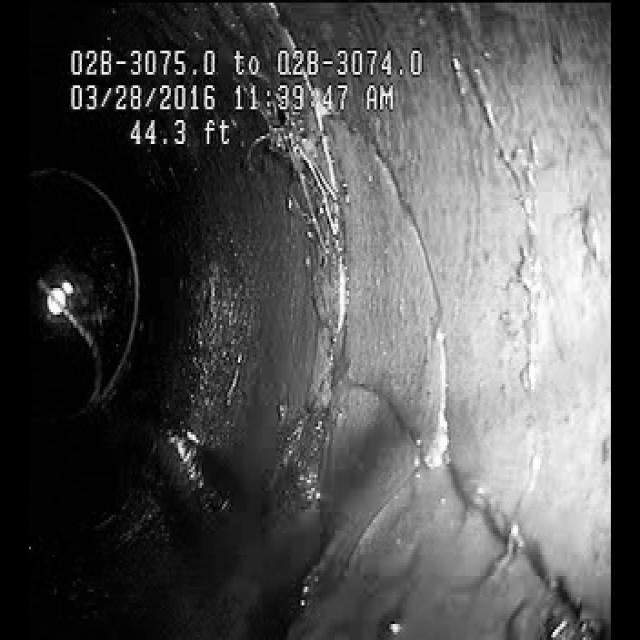Fracture: (308, 297, 585, 612)
